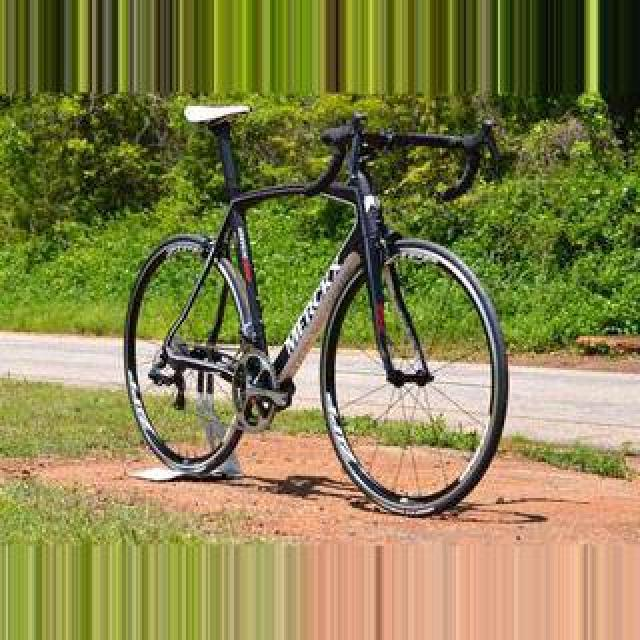Person: (114, 107, 518, 505)
